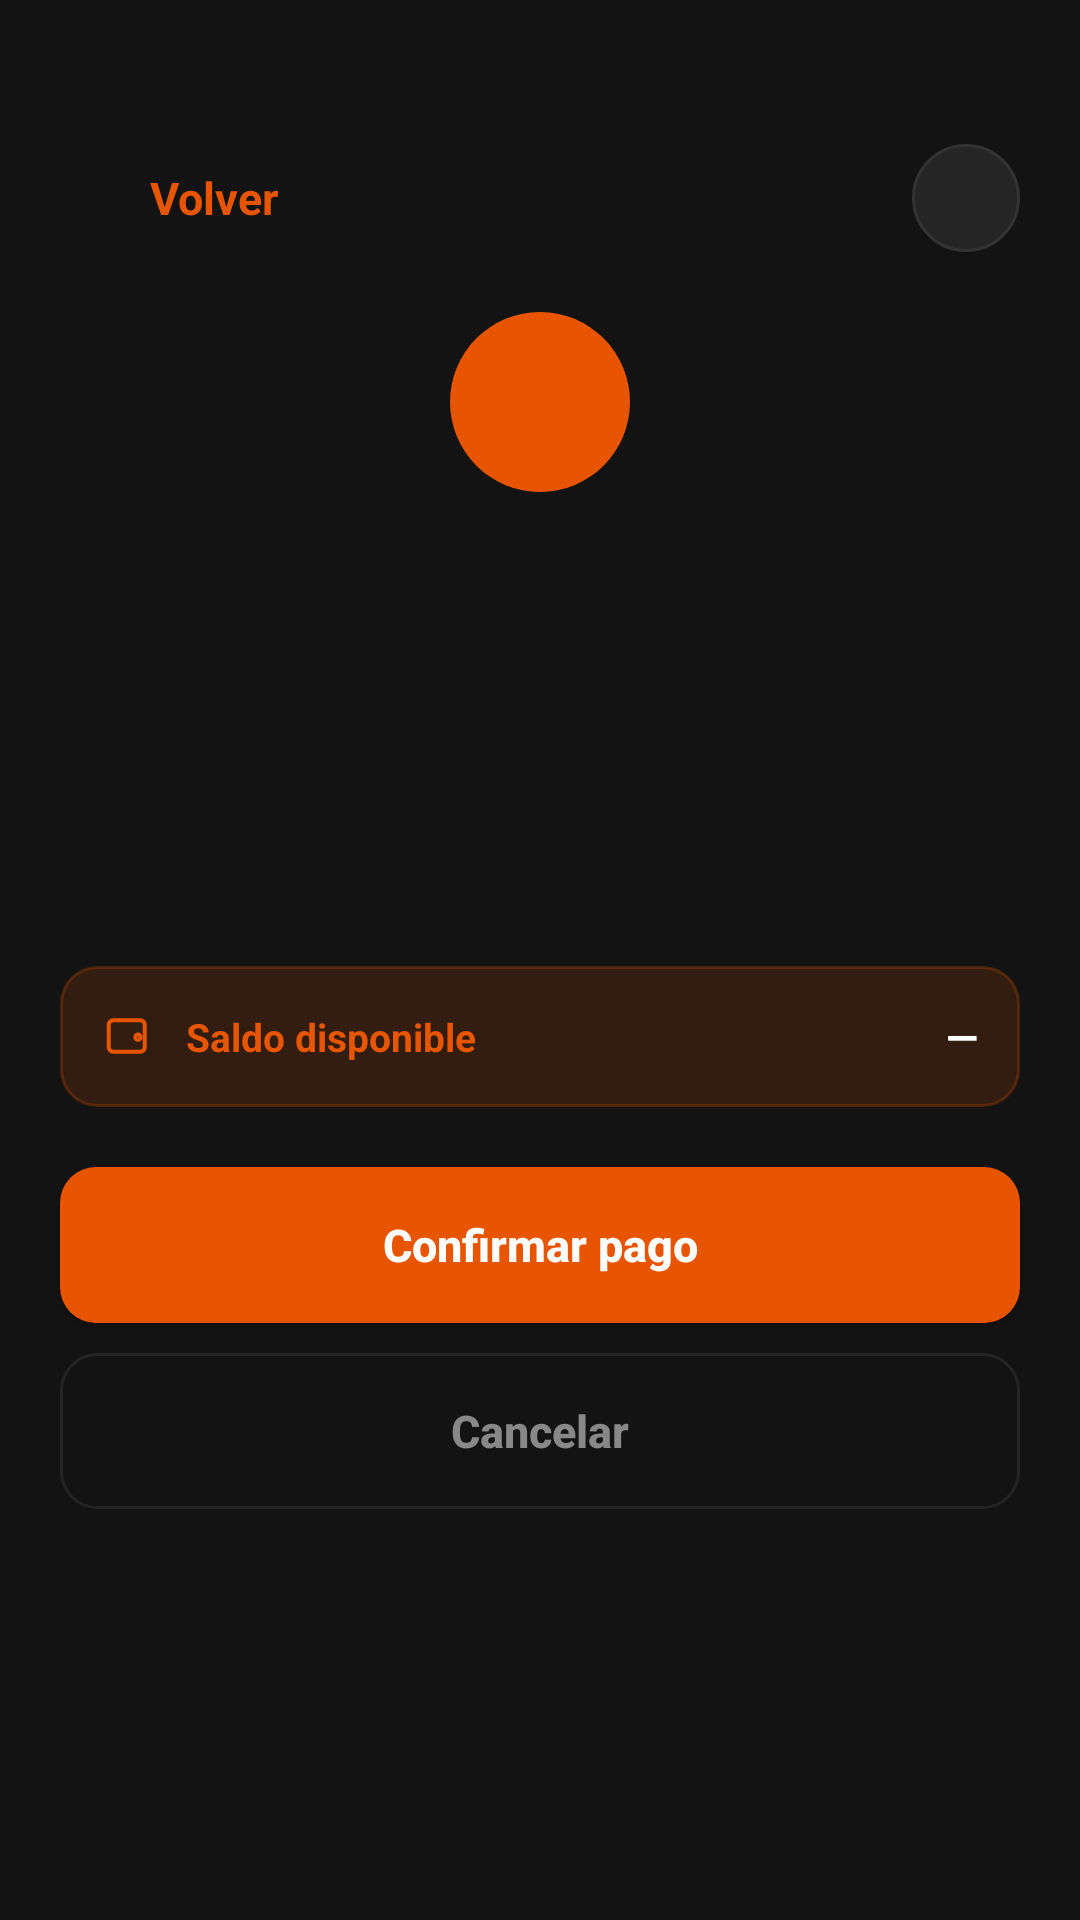

Screen size 1080 x 1920. Icon name, then its box in pixels as (x1, y1, x2, y2):
wallet: (106, 1018, 147, 1054)
